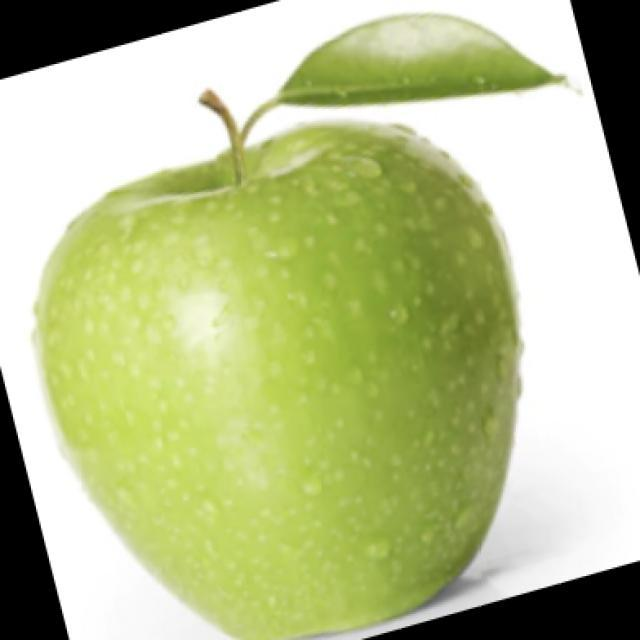Fresh Apple: (38, 120, 527, 627)
